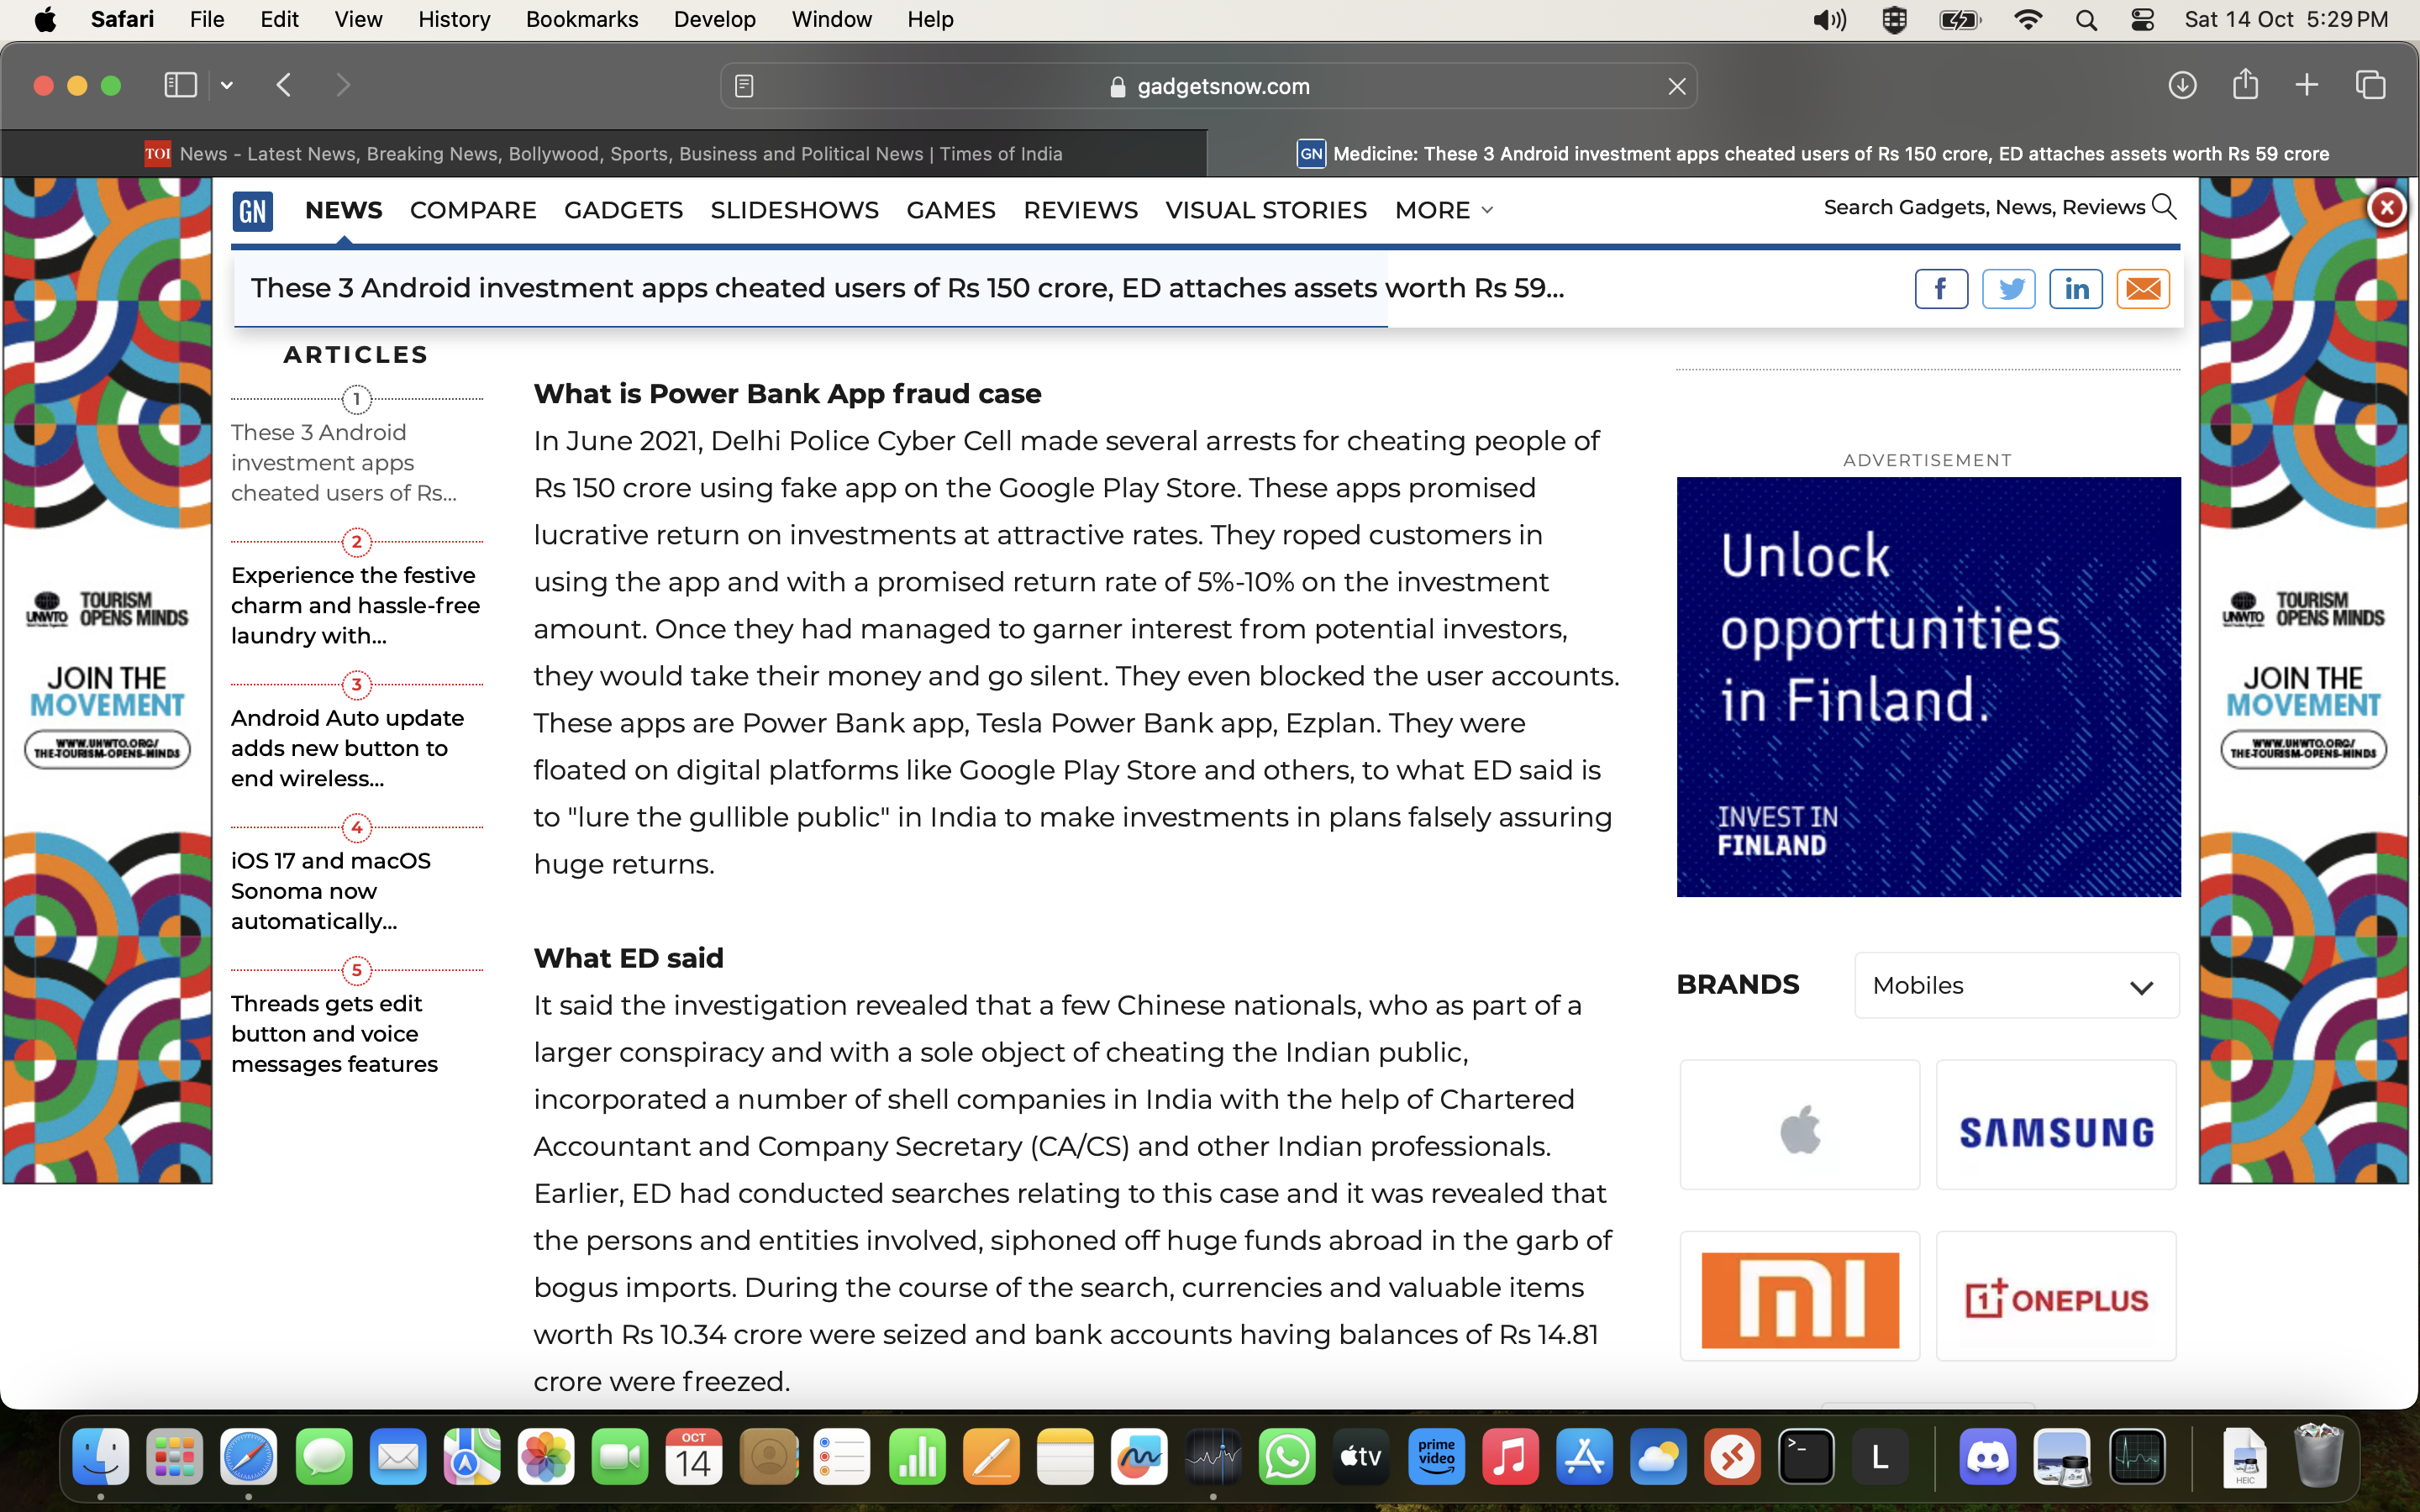Image: (1671, 1235, 1910, 1360), (1955, 1077, 2178, 1200), (1660, 1083, 1904, 1190), (1976, 1244, 2157, 1348)
Paragraph: (524, 429, 1632, 885), (521, 984, 1622, 1399), (1704, 507, 2089, 758), (247, 258, 1598, 326), (226, 552, 504, 665), (531, 364, 1063, 418), (226, 408, 463, 524), (226, 700, 467, 793), (230, 988, 453, 1087), (226, 840, 436, 939), (700, 174, 892, 237), (1707, 800, 1859, 878), (528, 932, 754, 984), (549, 178, 690, 233), (401, 185, 528, 240), (1657, 967, 1810, 1009), (1845, 956, 1976, 1005), (294, 185, 390, 233)
